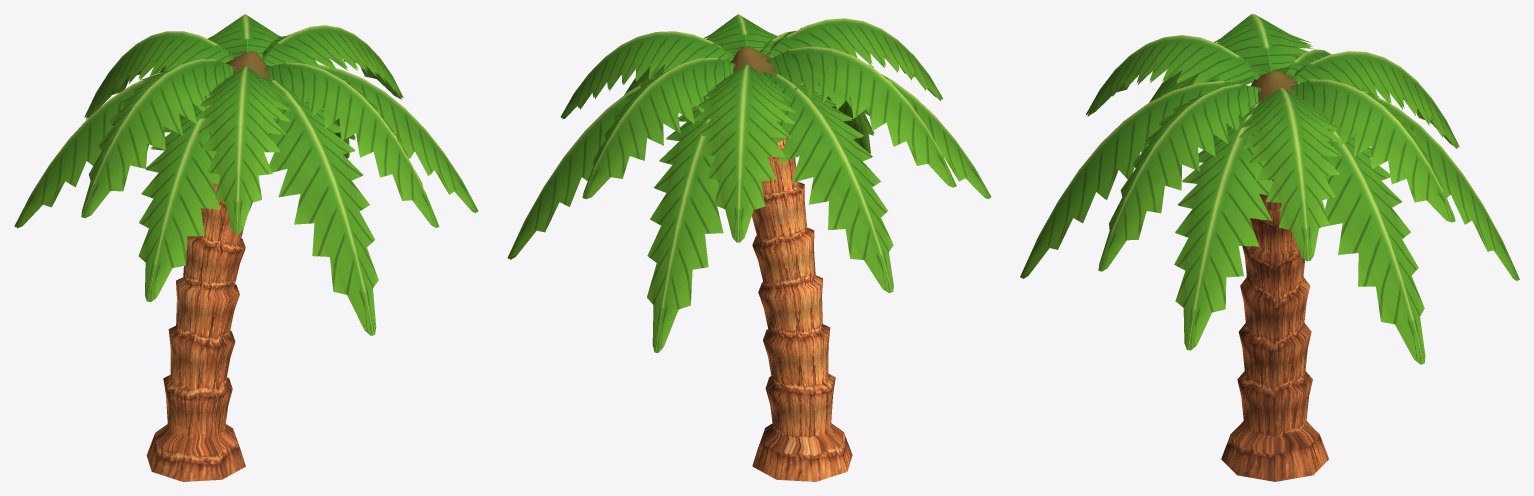
The model's file is Kit_PalmC.obj.
3 views of the same model, side by side, from view 1: azimuth 30°, elevation 25°; view 2: azimuth 150°, elevation 25°; view 3: azimuth 270°, elevation 25° (orthographic). The views are drawn at different scales.
Parts seen in each view (by area): view 1: Kit_PalmC; view 2: Kit_PalmC; view 3: Kit_PalmC.
Part boxes in pixels (x1,y1,x2,y2): Kit_PalmC: (14,14,478,481); Kit_PalmC: (507,14,991,481); Kit_PalmC: (1020,14,1519,481).
Bounding box in the file's own units: 18.34 × 18.97 × 20.08.
Materials: 1 (1 with a texture image).
